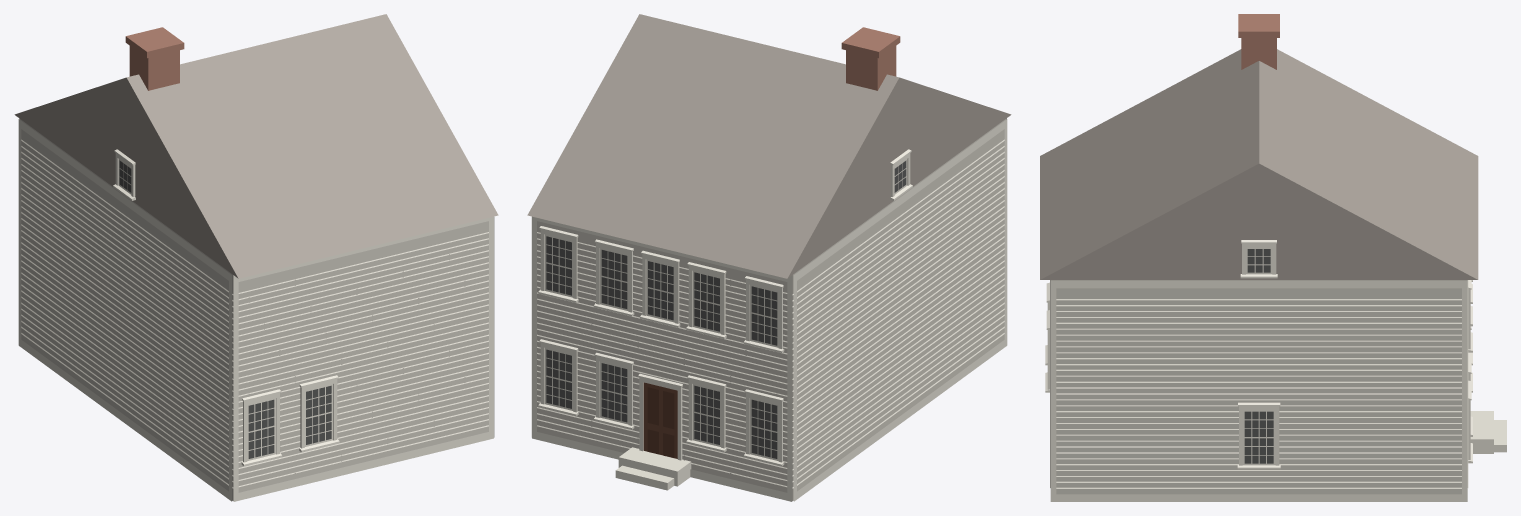
The model's file is recon_1835_north_d7_088__inferred_1835.glb.
3 renders of one model, left to right at view 1: azimuth 30°, elevation 25°; view 2: azimuth 150°, elevation 25°; view 3: azimuth 270°, elevation 25°, orthographic. The views are drawn at different scales.
Parts seen in each view (by area): view 1: recon_1835_north_d7_088__inferred_1835; view 2: recon_1835_north_d7_088__inferred_1835; view 3: recon_1835_north_d7_088__inferred_1835.
Boxes of the visible parts, left/top/right/bottom form: recon_1835_north_d7_088__inferred_1835: left=14, top=14, right=498, bottom=501; recon_1835_north_d7_088__inferred_1835: left=527, top=14, right=1011, bottom=501; recon_1835_north_d7_088__inferred_1835: left=1040, top=14, right=1506, bottom=501.
Size of the model in its own units: 7.08 by 9.49 by 10.91.
